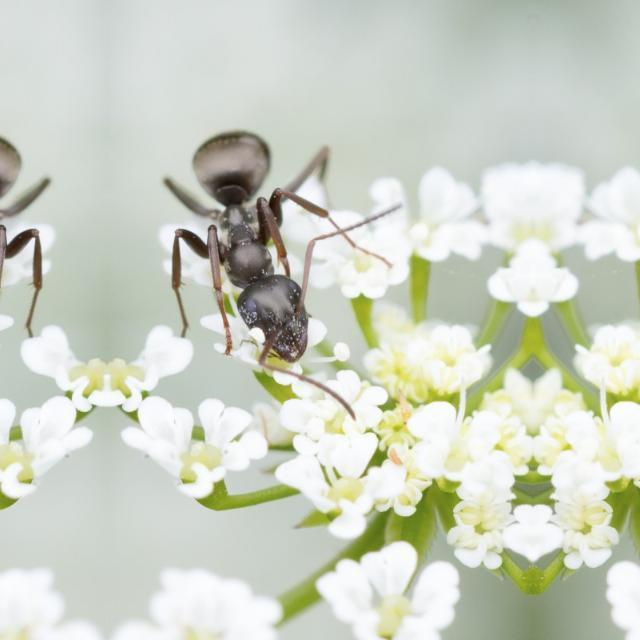Formica: (116, 96, 402, 394), (0, 95, 94, 392)
